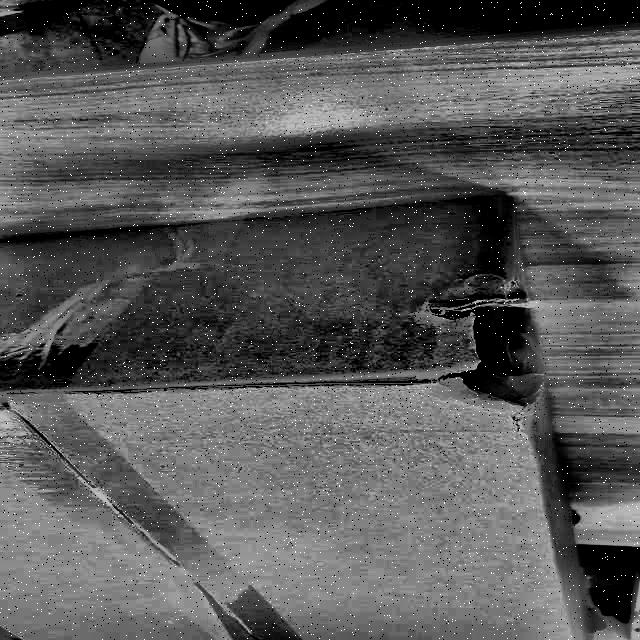box: (1, 185, 598, 640)
hole: (424, 286, 542, 418)
